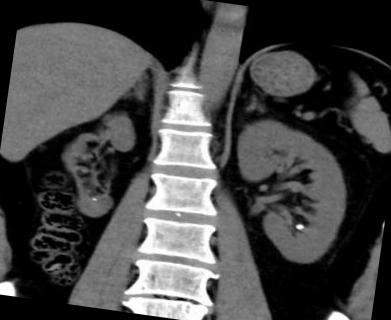Tas_Var: (293, 220, 307, 232), (89, 195, 99, 203)
